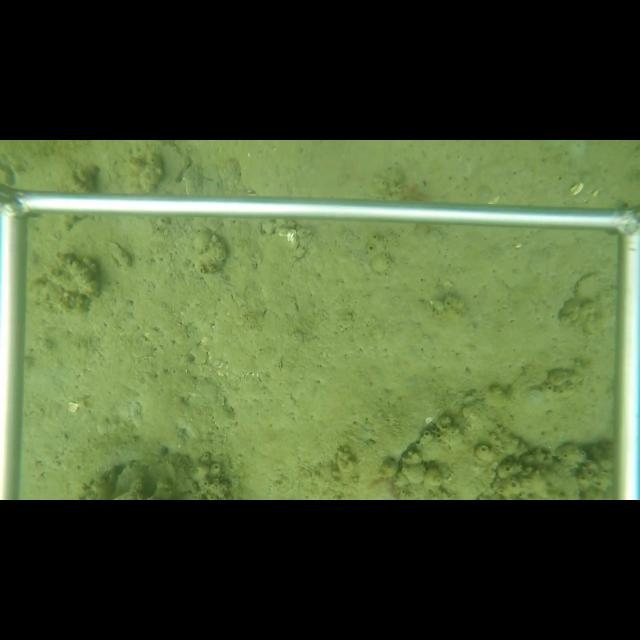Oyster-Closed: (559, 270, 612, 321), (161, 140, 191, 182), (103, 238, 132, 270)
